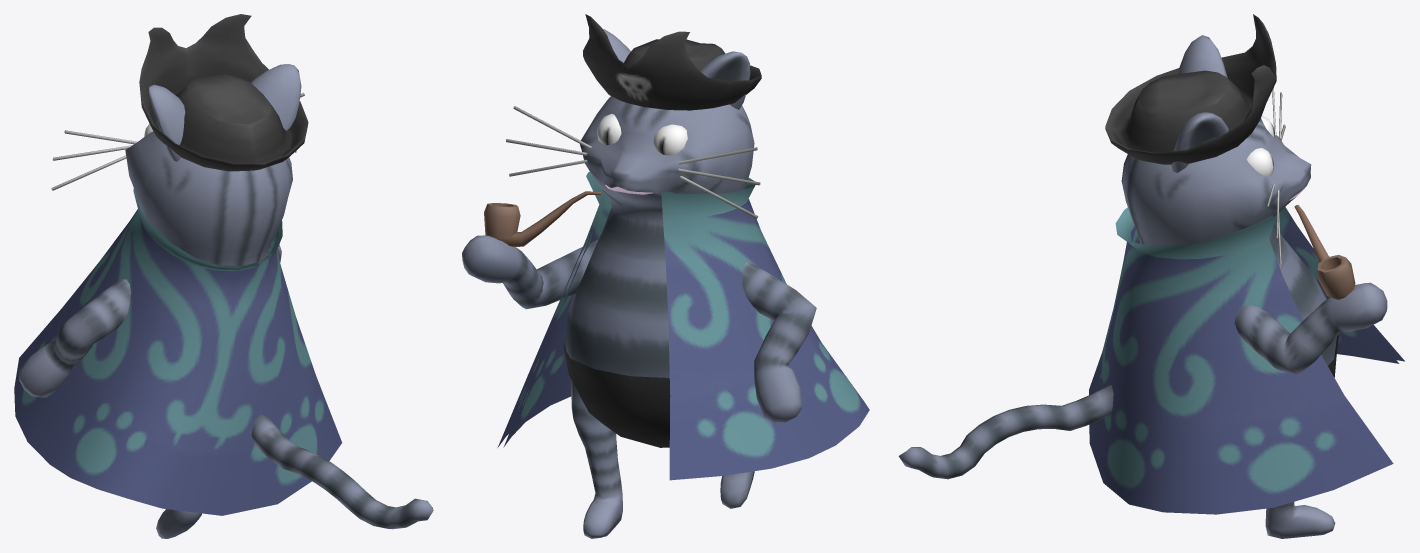
File: neko_walk_a_06.fbx
3 views of the same model, side by side, from view 1: azimuth 30°, elevation 25°; view 2: azimuth 150°, elevation 25°; view 3: azimuth 270°, elevation 25° (orthographic). The views are drawn at different scales.
Visible parts, largest first — view 1: W_a_06; view 2: W_a_06; view 3: W_a_06.
Part boxes in pixels (<box>): W_a_06: <box>14,14,433,538</box>; W_a_06: <box>462,14,869,538</box>; W_a_06: <box>898,14,1404,538</box>.
Bounding box in the file's own units: 1.18 × 1.9 × 1.77.
Materials: 1 (1 with a texture image).
